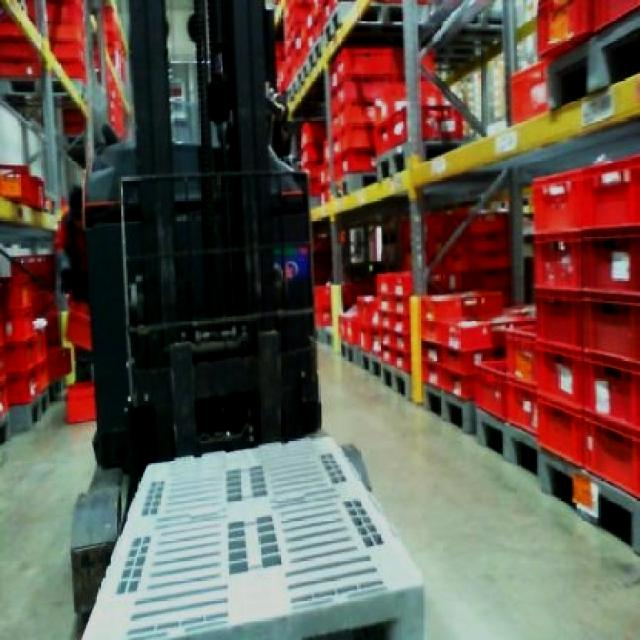pallets: (82, 435, 420, 637)
